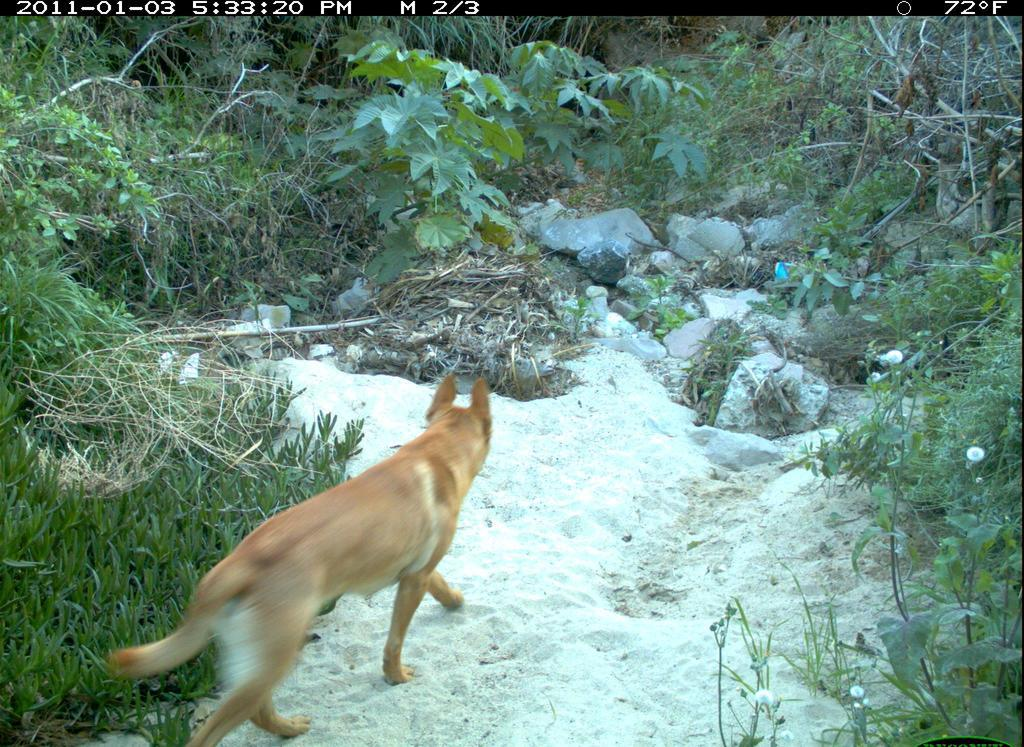dog: (102, 369, 496, 745)
